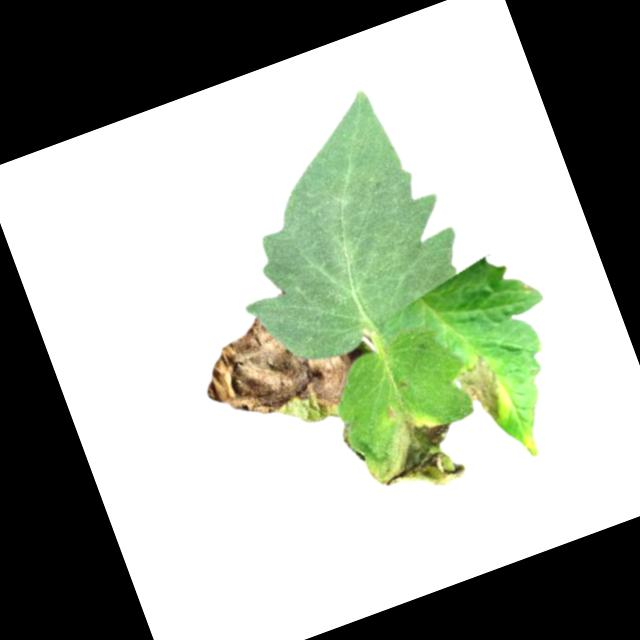Late_blight: (187, 289, 369, 448), (353, 395, 472, 508), (452, 352, 512, 428), (339, 423, 367, 469)
healthy: (187, 75, 481, 380)
